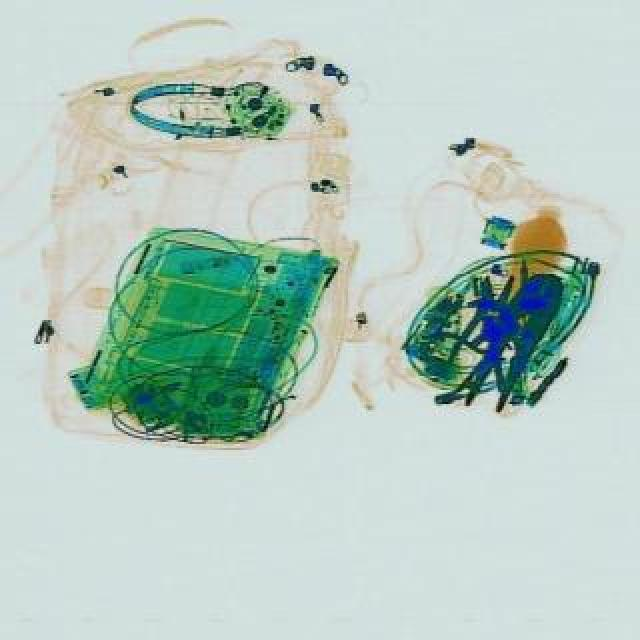wrench: (452, 262, 572, 420), (442, 264, 526, 376), (416, 322, 512, 402)
